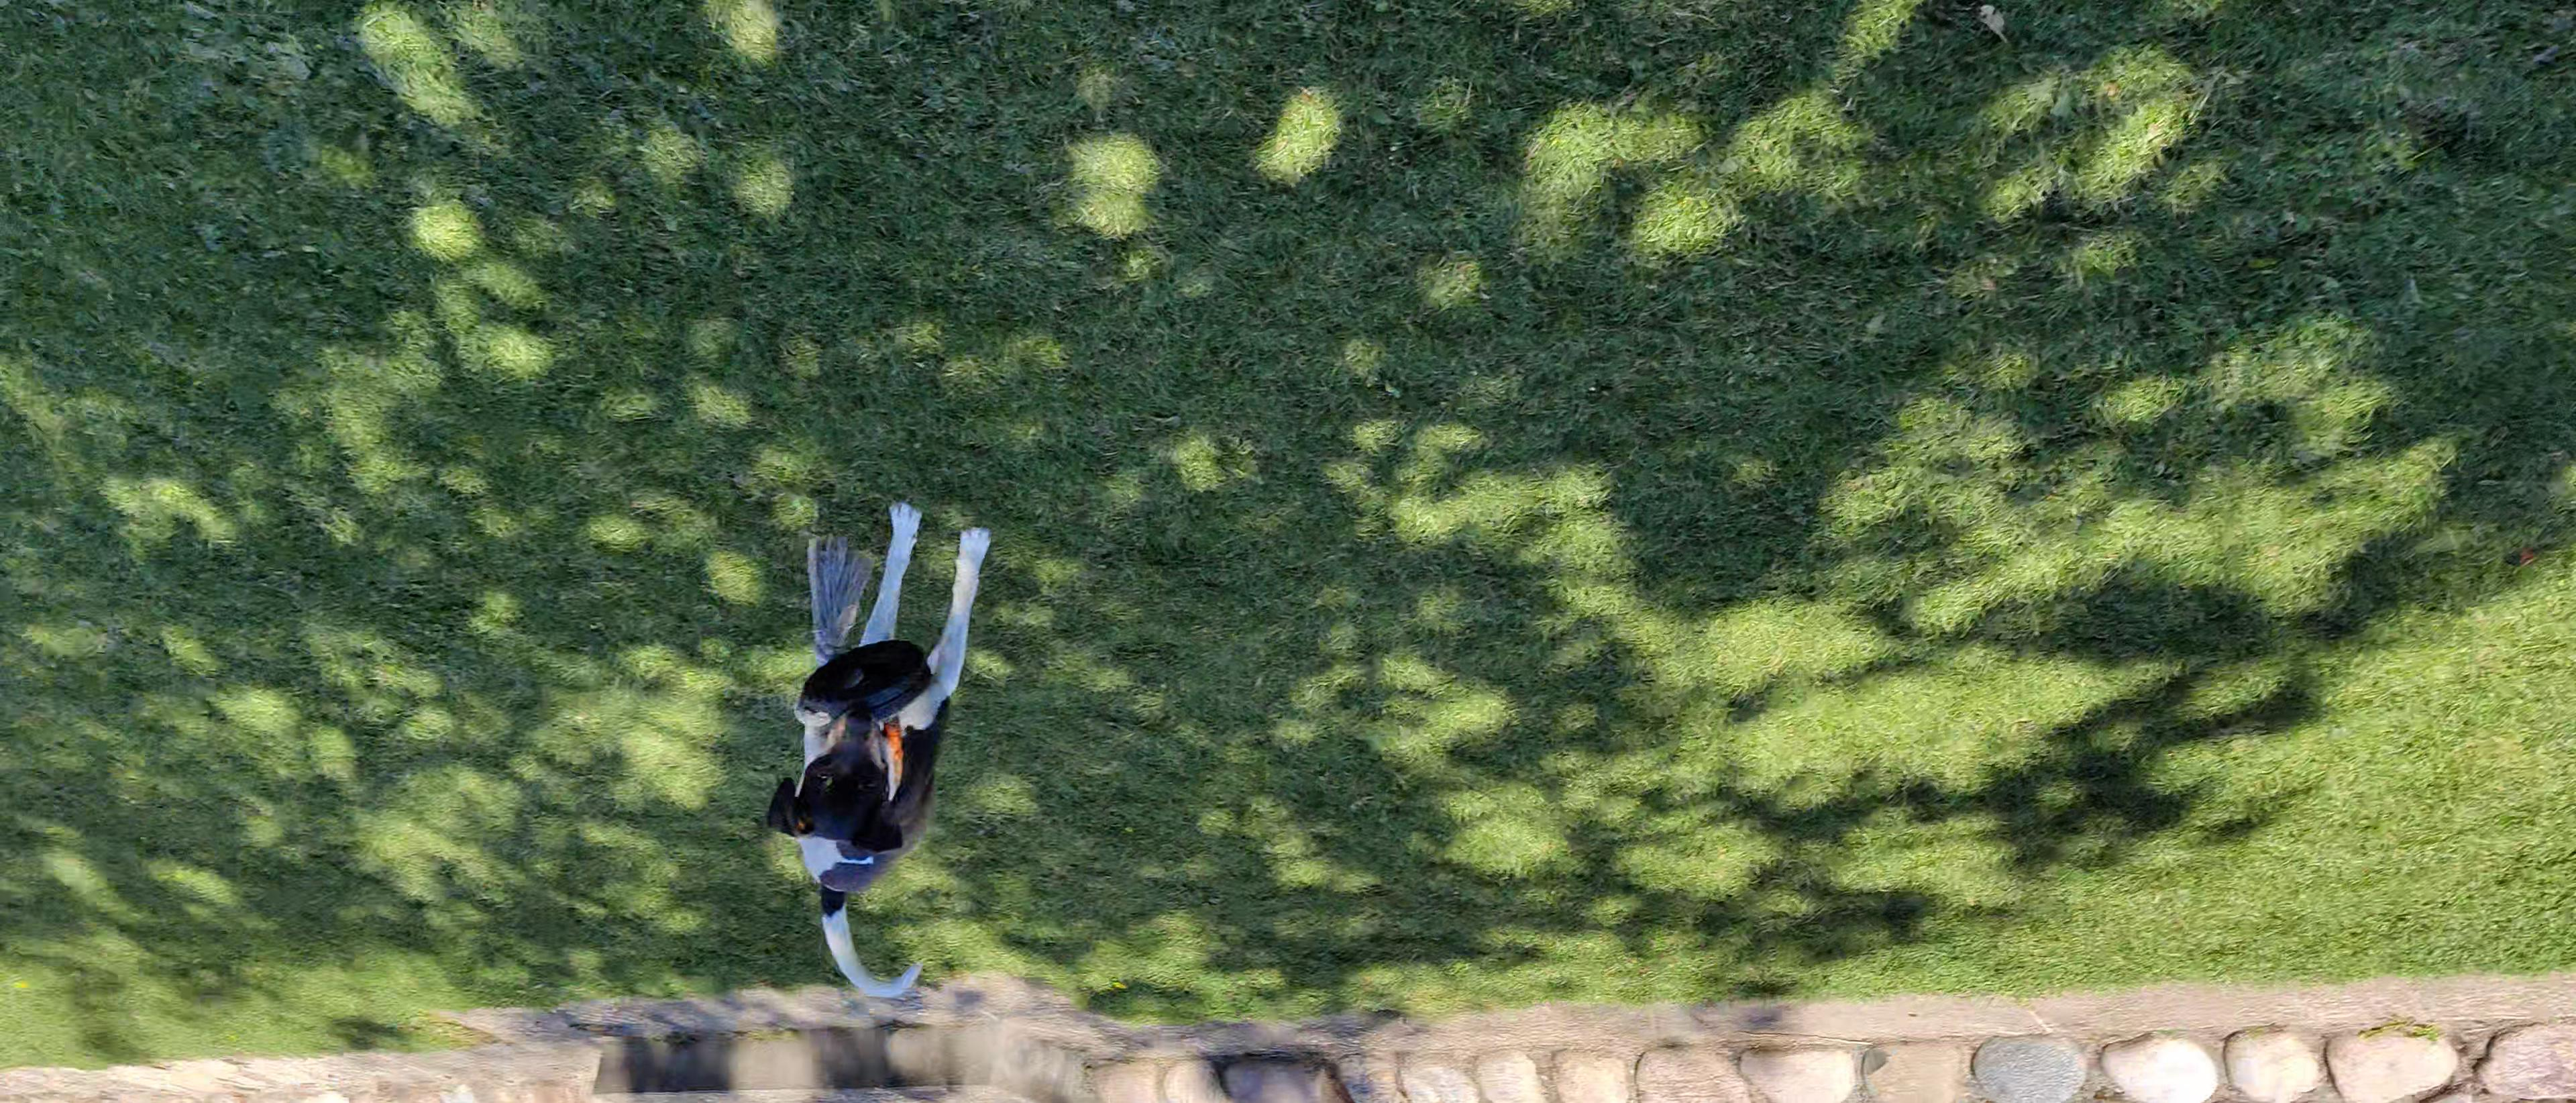Dog: (752, 496, 997, 1008)
